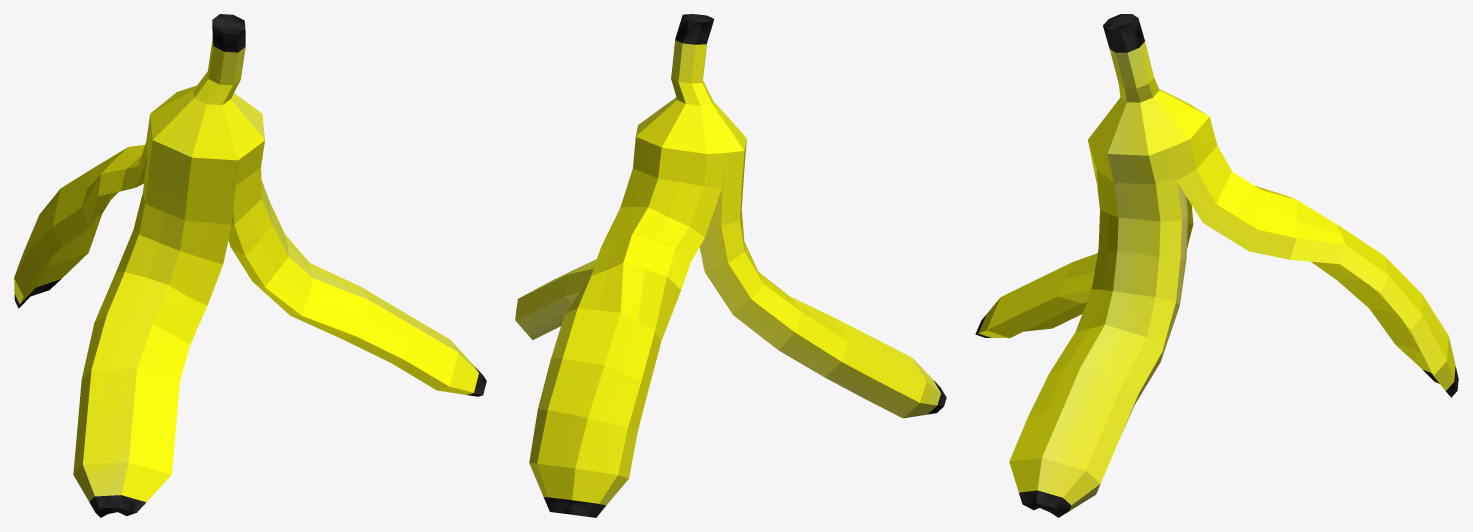
File: bananahat.fbx
3 renders of one model, left to right at view 1: azimuth 30°, elevation 25°; view 2: azimuth 150°, elevation 25°; view 3: azimuth 270°, elevation 25°, orthographic. The views are drawn at different scales.
Parts seen in each view (by area): view 1: bananahat; view 2: bananahat; view 3: bananahat.
Part boxes in pixels (left/top/right/bottom): bananahat: left=14, top=14, right=486, bottom=517; bananahat: left=515, top=14, right=946, bottom=517; bananahat: left=975, top=14, right=1458, bottom=517.
Bounding box in the file's own units: 26.29 × 24.75 × 26.67.
